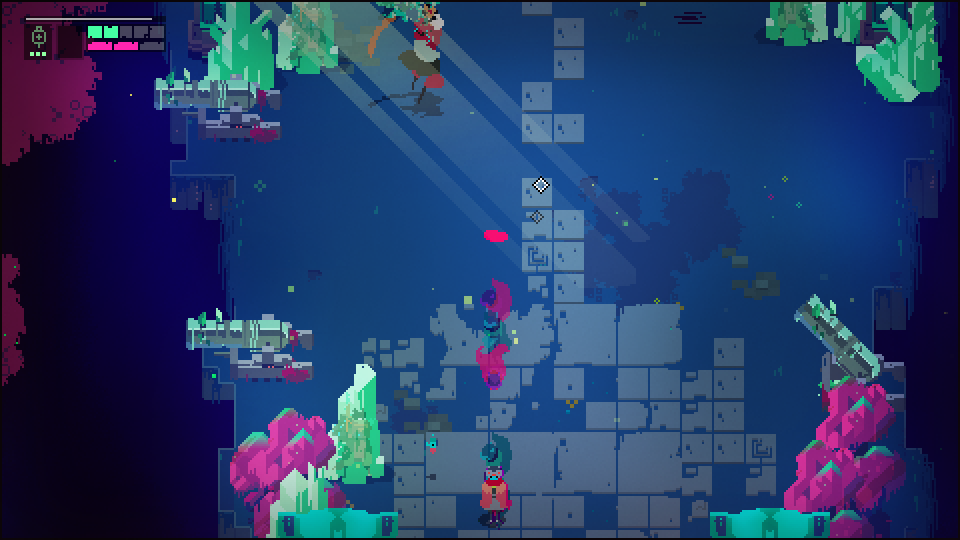hanged_man: (375, 1, 446, 112)
player: (480, 461, 515, 525)
